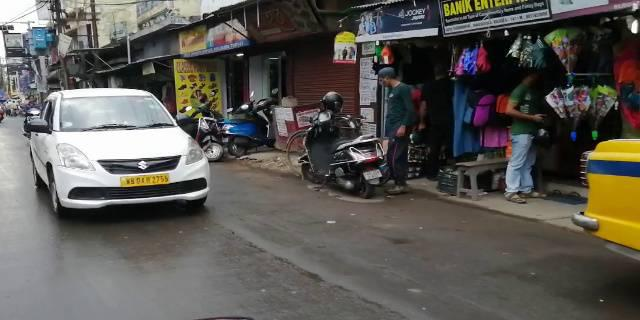Car: (38, 86, 210, 217)
Motorbike: (301, 100, 393, 200)
